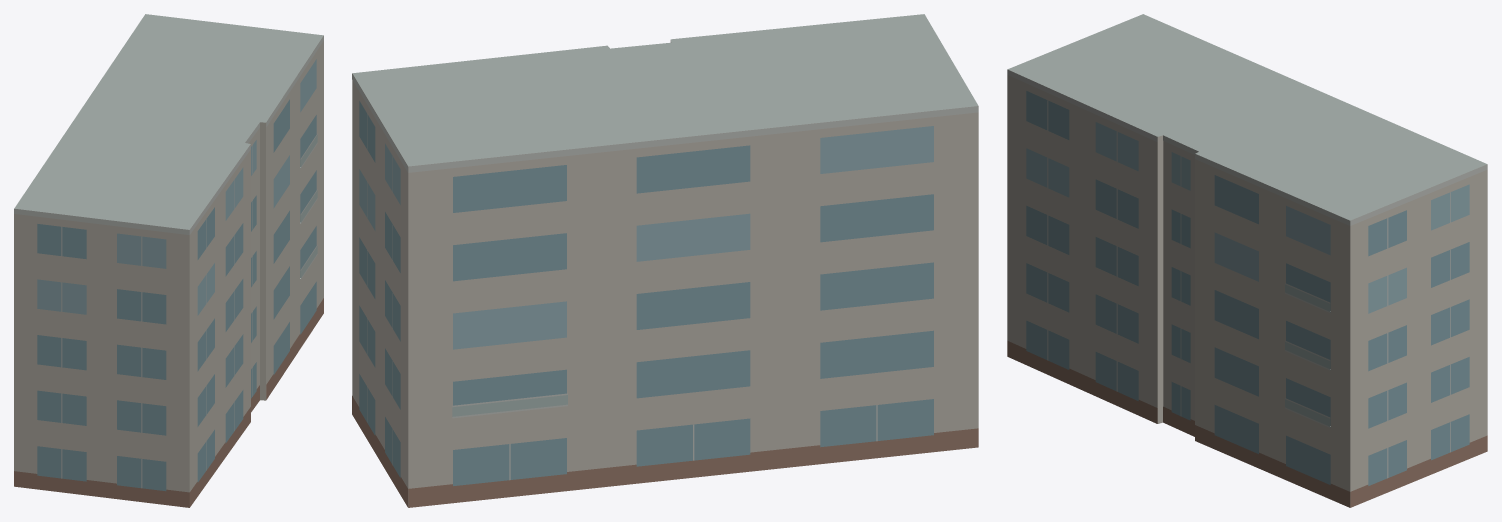
File: survey-upis-32885931.glb
3 views of the same model, side by side, from view 1: azimuth 30°, elevation 25°; view 2: azimuth 150°, elevation 25°; view 3: azimuth 270°, elevation 25° (orthographic). The views are drawn at different scales.
Parts seen in each view (by area): view 1: survey-upis-32885931.tmp; view 2: survey-upis-32885931.tmp; view 3: survey-upis-32885931.tmp.
Part boxes in pixels (bbox=[...]): survey-upis-32885931.tmp: bbox=[14, 14, 323, 507]; survey-upis-32885931.tmp: bbox=[352, 14, 978, 507]; survey-upis-32885931.tmp: bbox=[1007, 14, 1487, 507].
Size of the model in its own units: 20.07 by 13 by 19.7.
